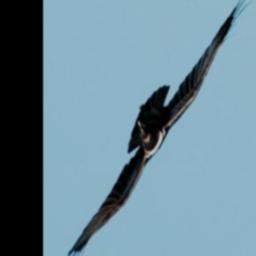Crow: (57, 0, 255, 256)
